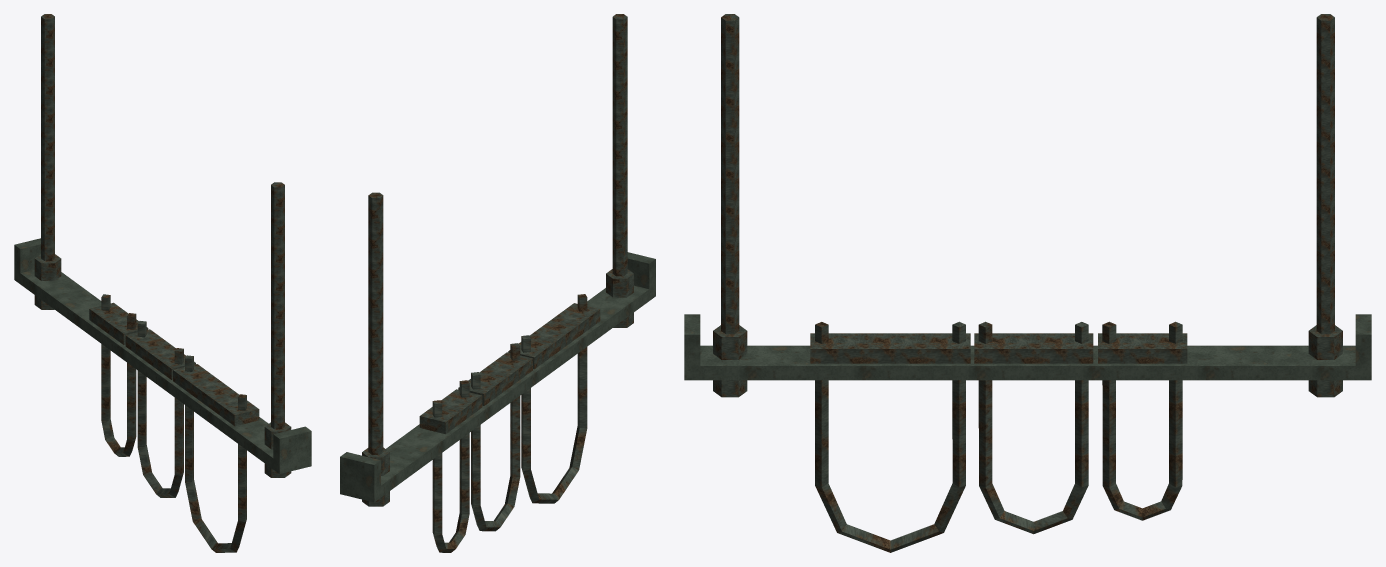
The model's file is SM_Pipe_Trapeze.fbx.
3 renders of one model, left to right at view 1: azimuth 30°, elevation 25°; view 2: azimuth 150°, elevation 25°; view 3: azimuth 270°, elevation 25°, orthographic. The views are drawn at different scales.
Parts seen in each view (by area): view 1: SM_Pipe_Trapeze; view 2: SM_Pipe_Trapeze; view 3: SM_Pipe_Trapeze.
Boxes of the visible parts, x1,y1,x2,y2 form: SM_Pipe_Trapeze: (14,14,311,552); SM_Pipe_Trapeze: (340,14,655,552); SM_Pipe_Trapeze: (684,14,1371,552).
Size of the model in its own units: 0.042 by 0.516 by 0.6.
